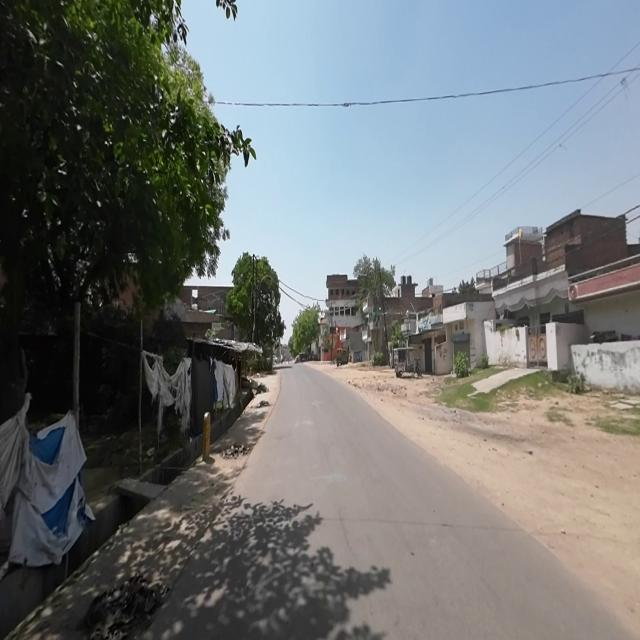Garbage: (224, 443, 248, 458), (254, 401, 270, 408), (258, 384, 270, 392)
